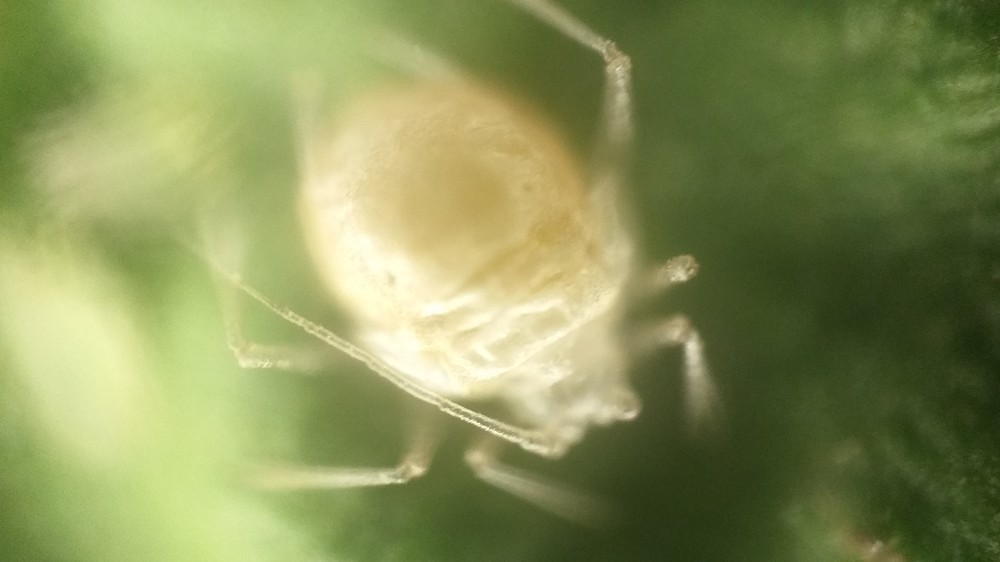Pulgon: (187, 7, 756, 545)
